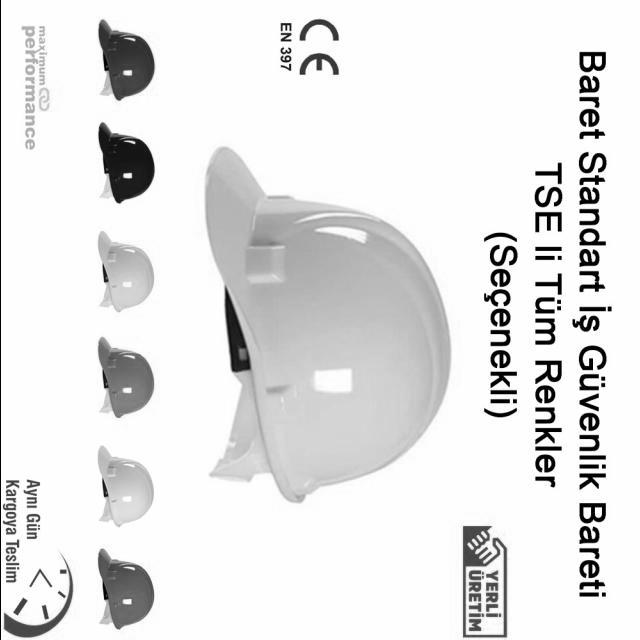construction helmet: (201, 145, 449, 505)
